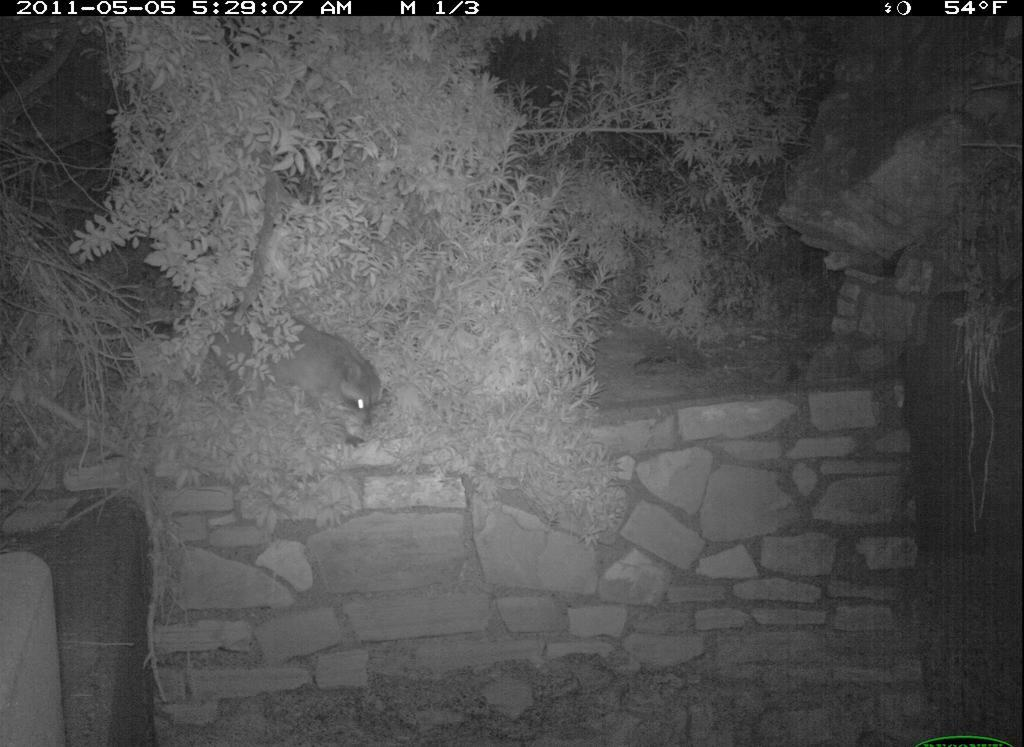raccoon: (218, 297, 382, 440)
